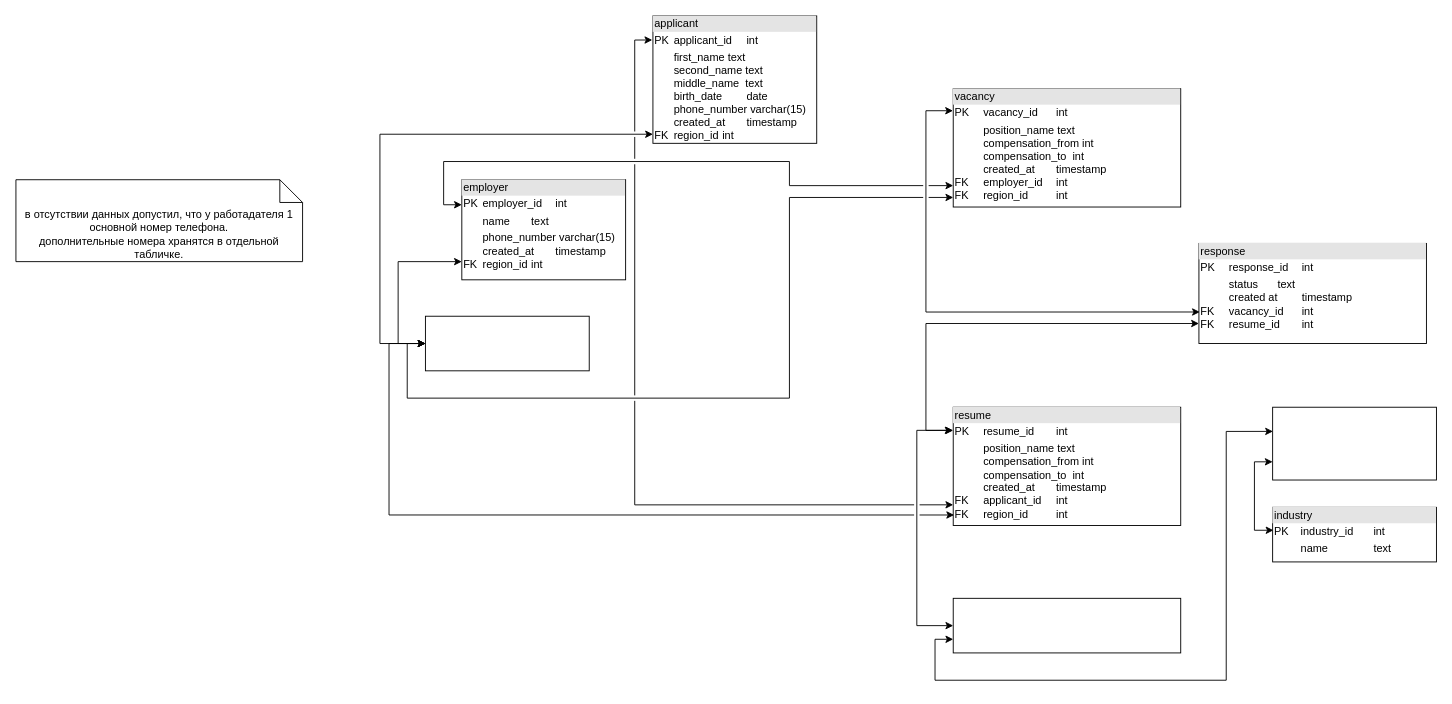
Some shapes in this 1452 by 704 pixel diagram are drawn without their labels. Here are the shapes that lost their labels. From the top down, the box of each, then its label:
(425, 315, 589, 371): region PK region_id int name text
(1272, 406, 1436, 480): specialization PK specialization_id int FK name text industry_id int
(952, 597, 1181, 653): resume_specializations PK, FK PK, FK resume_id int specialization_id int
